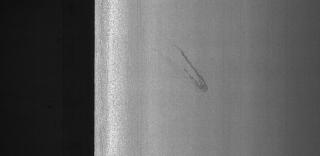water spot: (165, 43, 217, 98)
